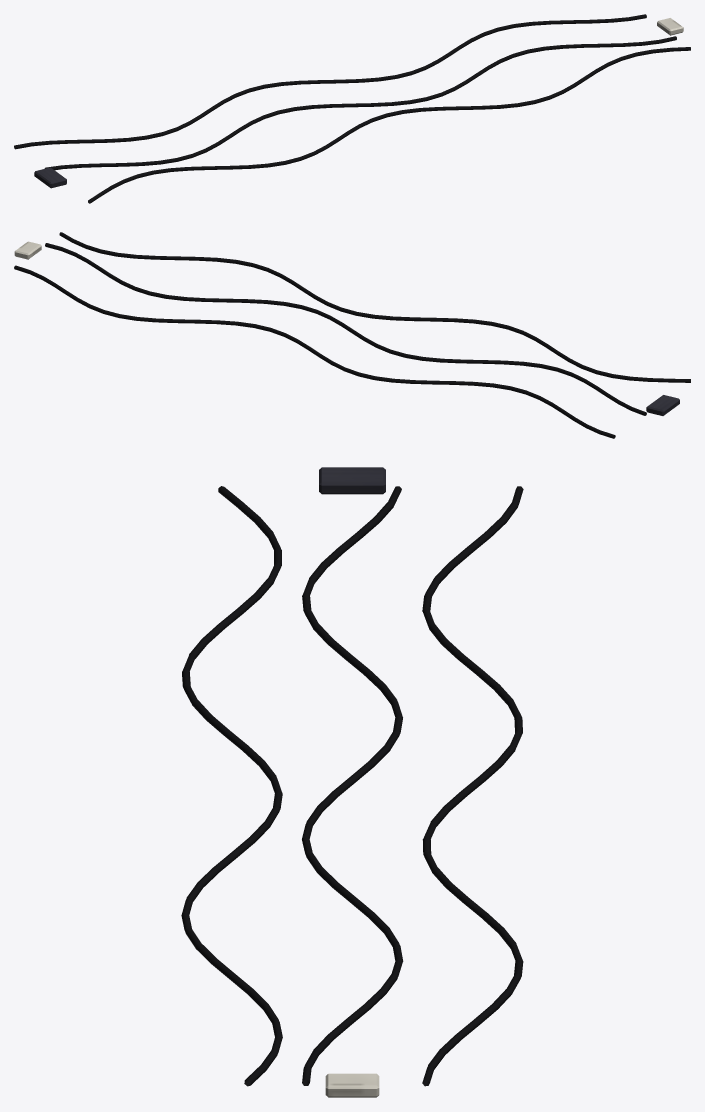
File: cables_floor.glb
3 renders of one model, top to bottom at view 1: azimuth 30°, elevation 25°; view 2: azimuth 150°, elevation 25°; view 3: azimuth 270°, elevation 25°, orthographic. The views are drawn at different scales.
Visible parts, largest first — view 1: cables_floor; view 2: cables_floor; view 3: cables_floor.
Boxes of the visible parts, box(x1,y1,x2,y2) form: cables_floor: box(14, 14, 690, 203); cables_floor: box(14, 232, 690, 438); cables_floor: box(181, 467, 523, 1097).
Bounding box in the file's own units: 2.2 × 0.021 × 0.5118.
Materials: 3 (2 with a texture image).
